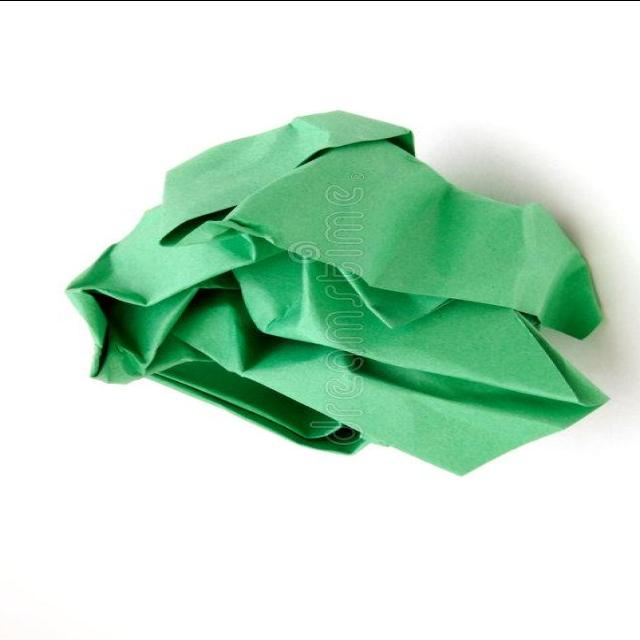kertas: (64, 108, 611, 477)
